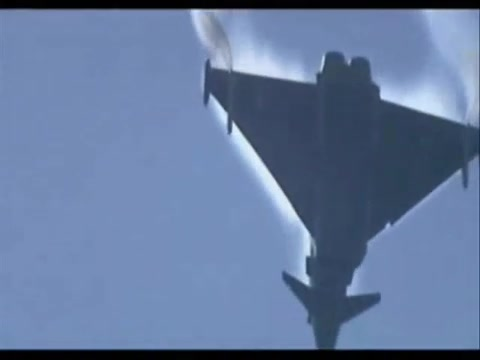aeroplane: (203, 50, 480, 349)
